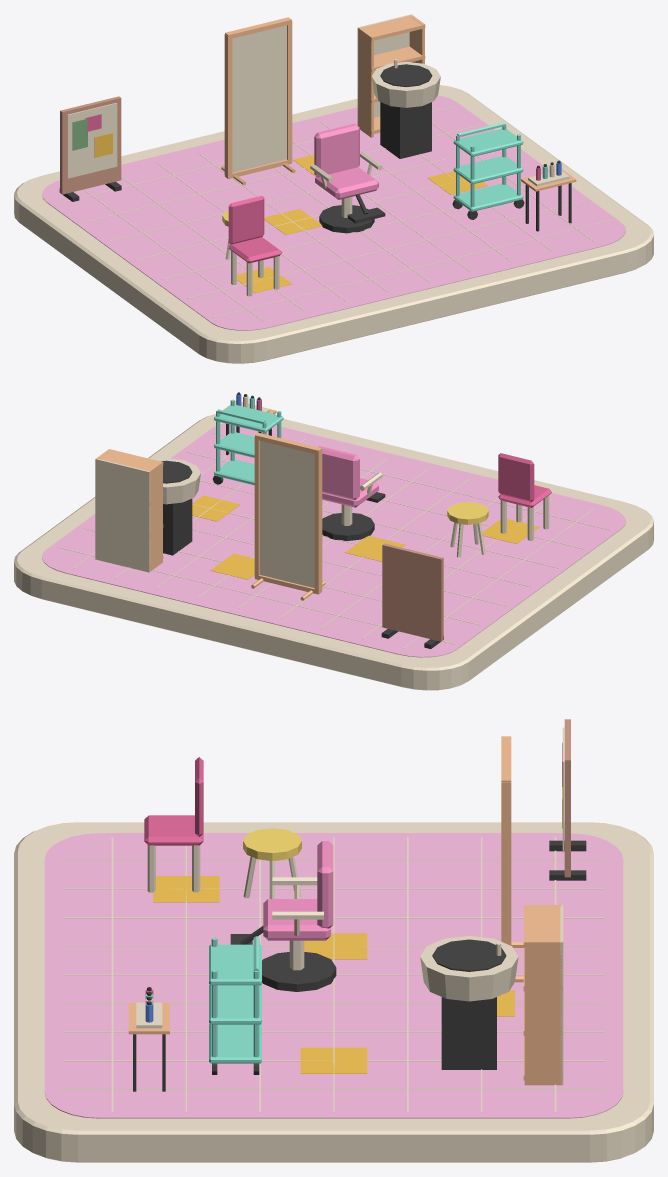
File: room.fbx
3 views of the same model, one above another, from view 1: azimuth 30°, elevation 25°; view 2: azimuth 150°, elevation 25°; view 3: azimuth 270°, elevation 25° (orthographic). The views are drawn at different scales.
Visible parts, largest first — view 1: COM-02 Floor Surface, COM-01 Rounded Base Direct, Mirror face, Pedestal, Canvas, Panel, Back, Bowl, Backrest, Side, Seat, Frame (+16 smaller); view 2: COM-02 Floor Surface, COM-01 Rounded Base Direct, Mirror face, Back.001, Panel, Back, Backrest, Pedestal, Frame, Side, Base, Tray.002 (+14 smaller); view 3: COM-02 Floor Surface, COM-01 Rounded Base Direct, Side.001, Pedestal, Bowl, Base, Seat, Tray.002, Inset, Geometric color tile.003, Tray.001, Tray (+16 smaller).
Boxes of the visible parts, bbox=[...] form: COM-02 Floor Surface: bbox=[42, 95, 625, 330]; COM-01 Rounded Base Direct: bbox=[14, 85, 653, 363]; Mirror face: bbox=[232, 25, 286, 172]; Pedestal: bbox=[380, 102, 431, 158]; Canvas: bbox=[67, 103, 117, 178]; Panel: bbox=[60, 96, 121, 194]; Back: bbox=[314, 123, 359, 176]; Bowl: bbox=[371, 61, 440, 107]; Backrest: bbox=[228, 195, 264, 244]; Side: bbox=[358, 27, 373, 137]; Seat: bbox=[315, 167, 378, 199]; Frame: bbox=[224, 34, 232, 177]; COM-02 Floor Surface: bbox=[42, 423, 625, 657]; COM-01 Rounded Base Direct: bbox=[14, 414, 653, 690]; Mirror face: bbox=[260, 441, 314, 587]; Back.001: bbox=[95, 459, 150, 572]; Panel: bbox=[382, 543, 443, 641]; Back: bbox=[318, 446, 359, 499]; Backrest: bbox=[498, 453, 534, 501]; Pedestal: bbox=[163, 498, 192, 555]; Frame: bbox=[314, 450, 322, 593]; Side: bbox=[148, 461, 162, 571]; Base: bbox=[322, 513, 374, 540]; Tray.002: bbox=[214, 404, 283, 432]; COM-02 Floor Surface: bbox=[44, 833, 623, 1118]; COM-01 Rounded Base Direct: bbox=[14, 822, 653, 1162]; Side.001: bbox=[524, 940, 561, 1085]; Pedestal: bbox=[441, 997, 496, 1069]; Bowl: bbox=[420, 936, 518, 1001]; Base: bbox=[262, 952, 336, 991]; Seat: bbox=[263, 899, 330, 940]; Tray.002: bbox=[209, 944, 261, 985]; Inset: bbox=[432, 939, 506, 971]; Geometric color tile.003: bbox=[300, 1047, 367, 1073]; Tray.001: bbox=[209, 984, 261, 1024]; Tray: bbox=[209, 1023, 261, 1063].
Bounding box in the file's own units: 600 × 215 × 520.
